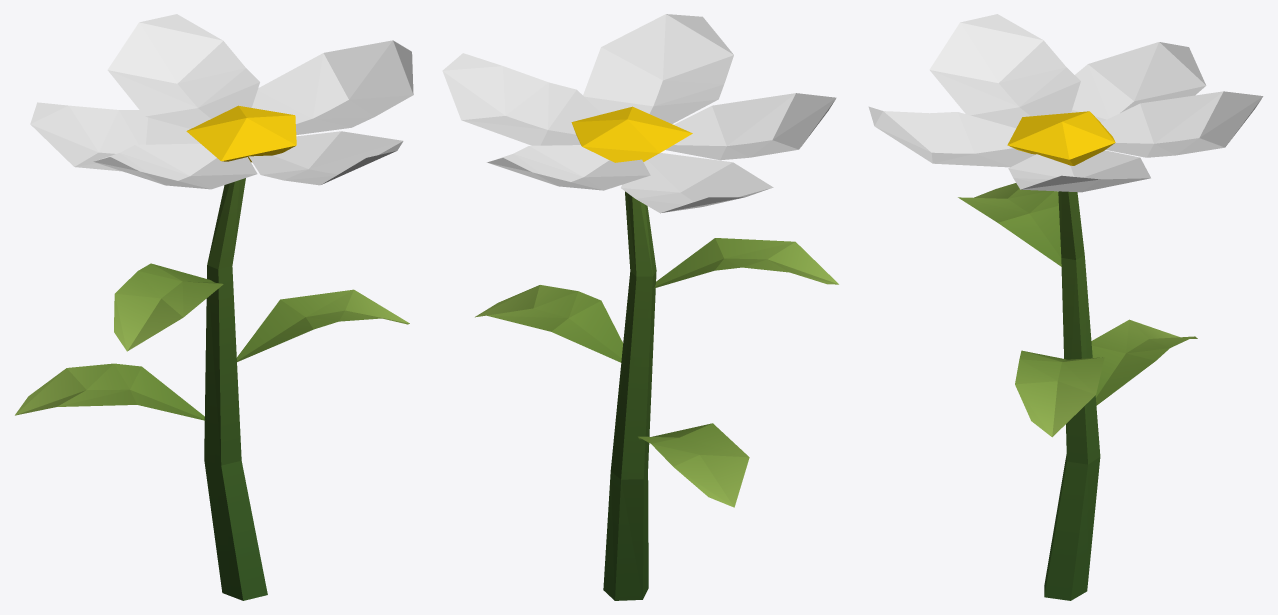
The model's file is Mesh_Nature_Flower_02.FBX.
3 views of the same model, side by side, from view 1: azimuth 30°, elevation 25°; view 2: azimuth 150°, elevation 25°; view 3: azimuth 270°, elevation 25° (orthographic).
Visible parts, largest first — view 1: Mesh_Nature_Flower_02; view 2: Mesh_Nature_Flower_02; view 3: Mesh_Nature_Flower_02.
Part boxes in pixels (box(x1,y1,x2,y2)): Mesh_Nature_Flower_02: box(15, 14, 413, 600); Mesh_Nature_Flower_02: box(442, 14, 838, 600); Mesh_Nature_Flower_02: box(868, 14, 1263, 600).
Size of what is drawn, in the model's own units: 27.71 by 28.46 by 39.4.
